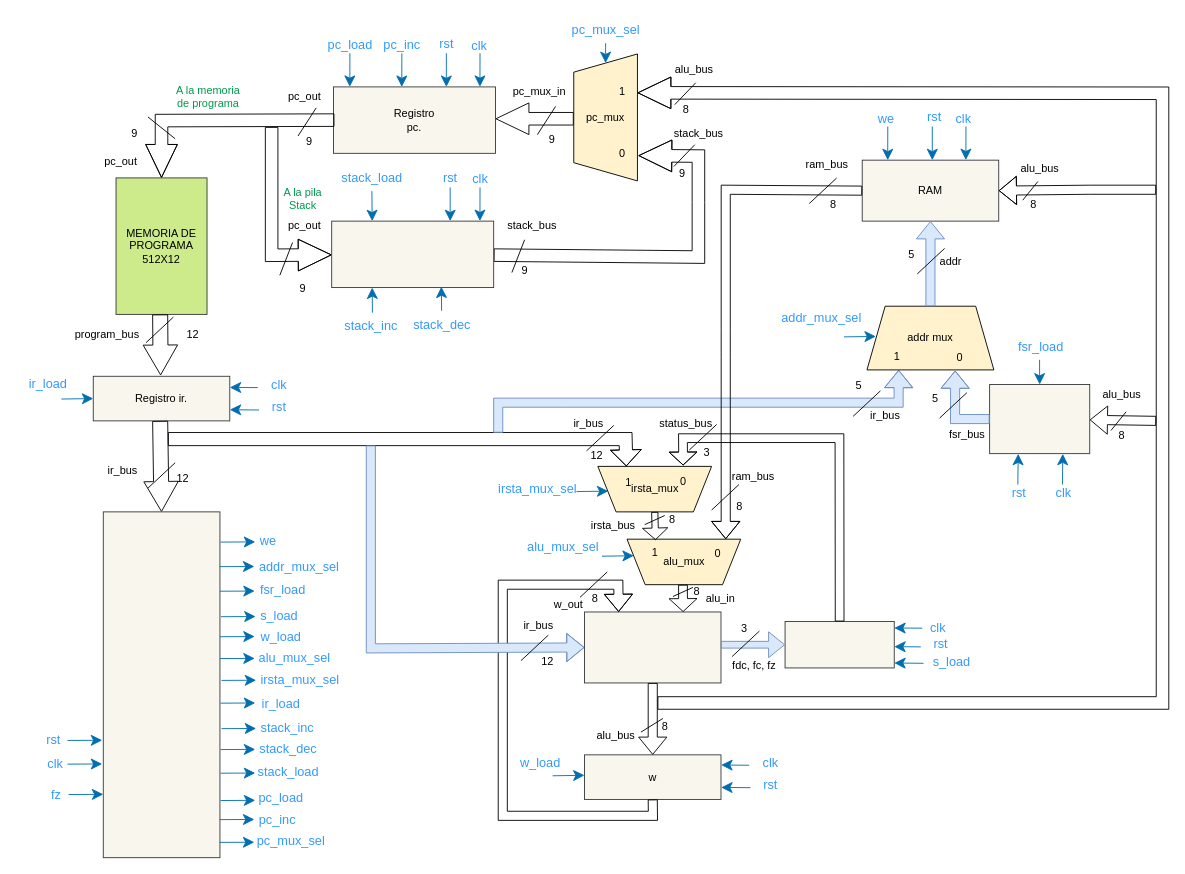
The diagram is 1185 pixels wide and 874 high, and some of its shapes have lost their labels. The centre of each missing label's shape, as x and y in pixels:
alu: pixel 652 647
FSR: pixel 1039 419
stack pointer: pixel 412 254
Status: pixel 839 644
Unidad de control: pixel 161 684
